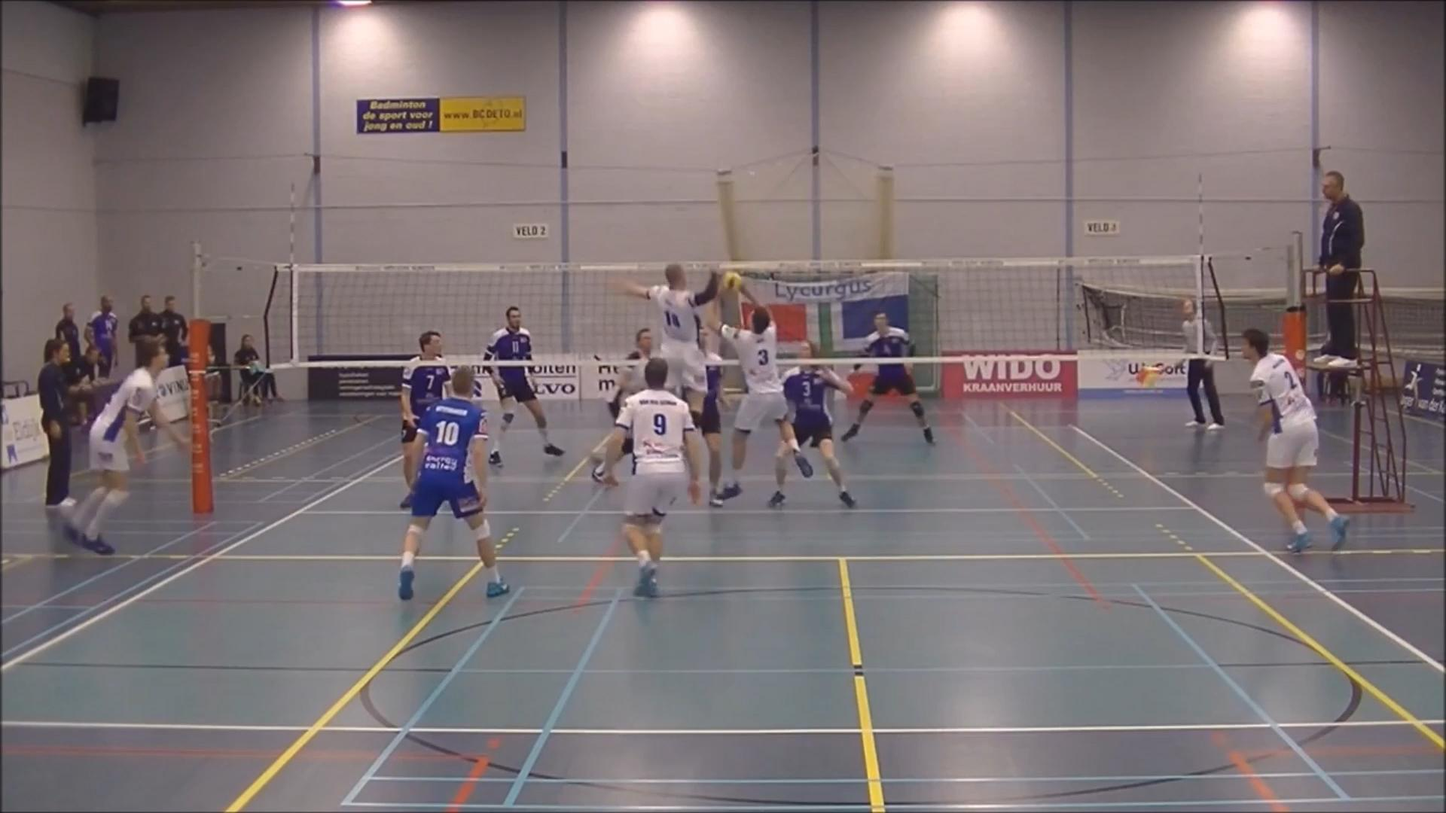alzata: (710, 283, 802, 506)
attacco: (626, 243, 717, 427)
